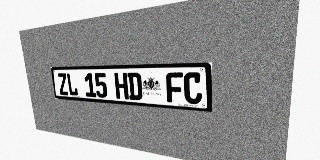1: (83, 73, 96, 97)
5: (94, 73, 108, 98)
C: (183, 72, 202, 105)
D: (127, 73, 143, 100)
F: (166, 72, 183, 103)
H: (114, 73, 129, 100)
L: (66, 73, 78, 96)
Z: (57, 73, 69, 95)
